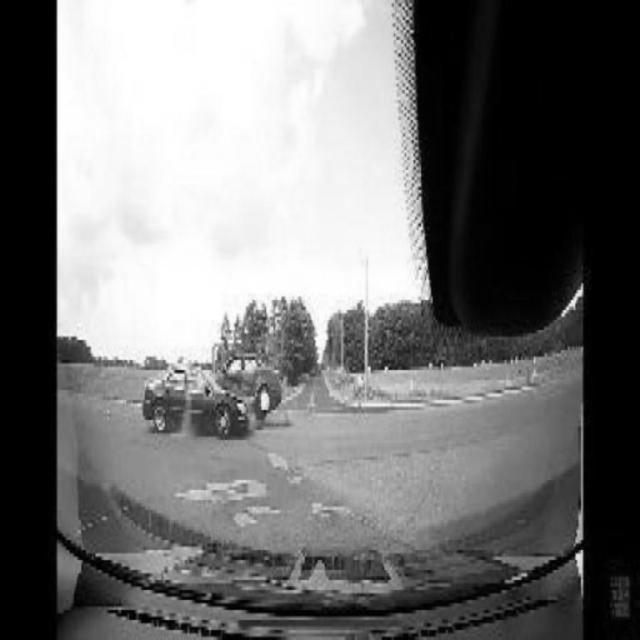accident: (139, 353, 283, 436)
